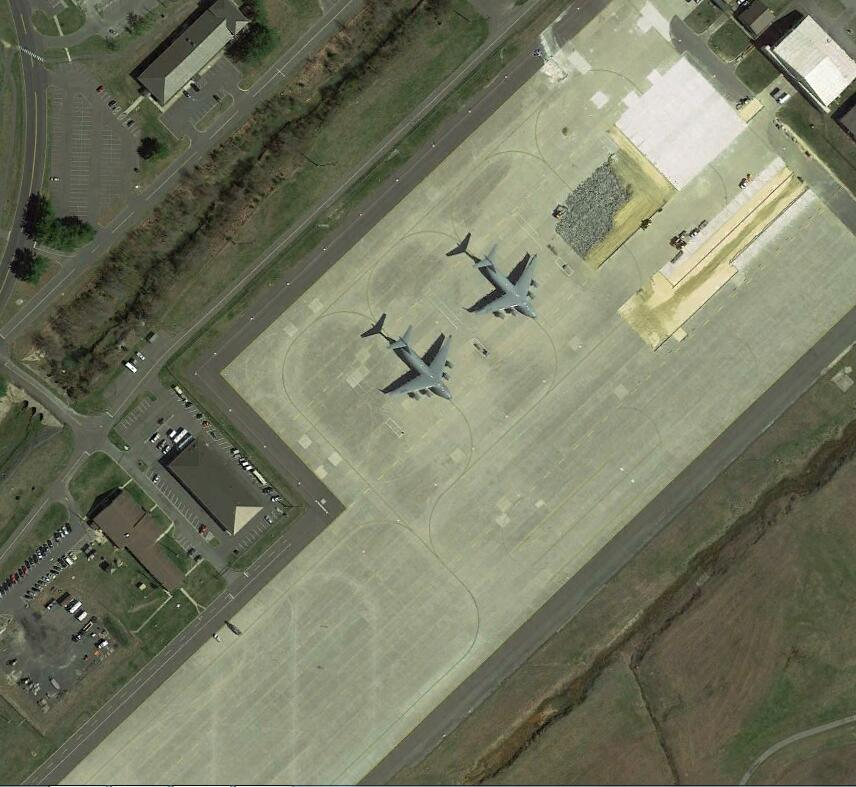A3: (470, 243, 545, 325), (385, 329, 459, 404)
